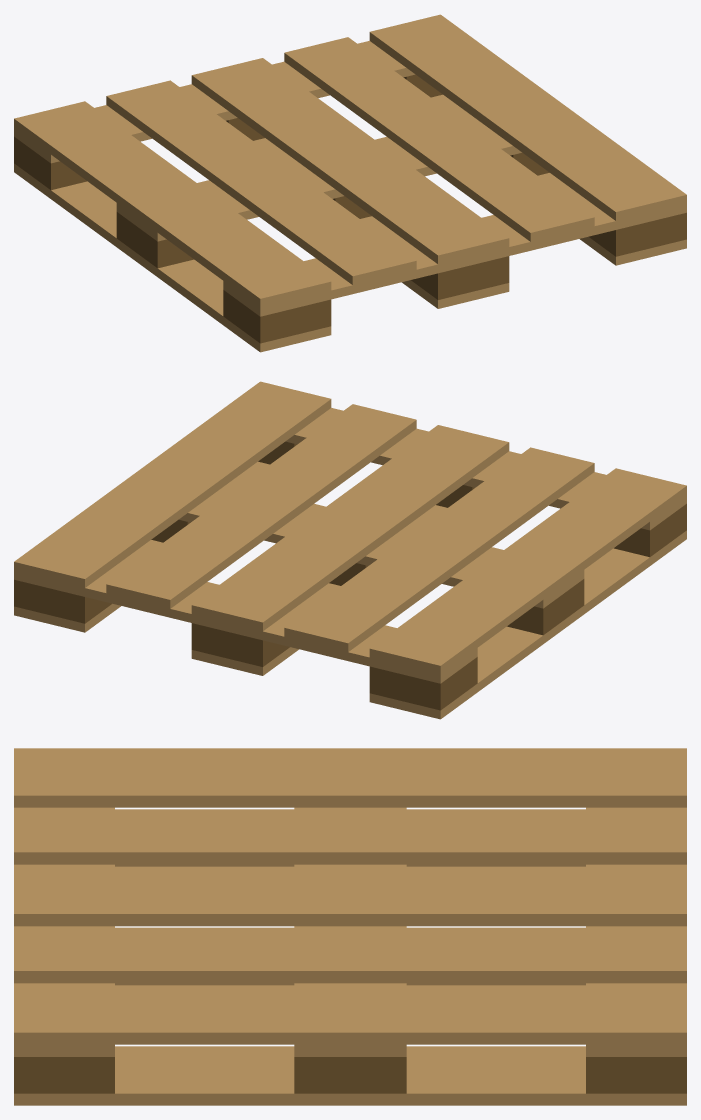
Rendered from Pallet.fbx.
3 views of the same model, one above another, from view 1: azimuth 30°, elevation 25°; view 2: azimuth 150°, elevation 25°; view 3: azimuth 270°, elevation 25° (orthographic). The views are drawn at different scales.
Visible parts, largest first — view 1: Pallet; view 2: Pallet; view 3: Pallet.
Part boxes in pixels (bbox=[...]): Pallet: bbox=[14, 14, 686, 352]; Pallet: bbox=[14, 381, 686, 719]; Pallet: bbox=[14, 748, 686, 1105].
Bounding box in the file's own units: 100 × 12 × 100.
